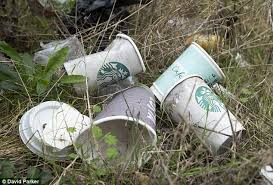cup: (160, 75, 245, 156), (82, 91, 157, 173), (65, 32, 146, 88), (148, 41, 226, 91)
